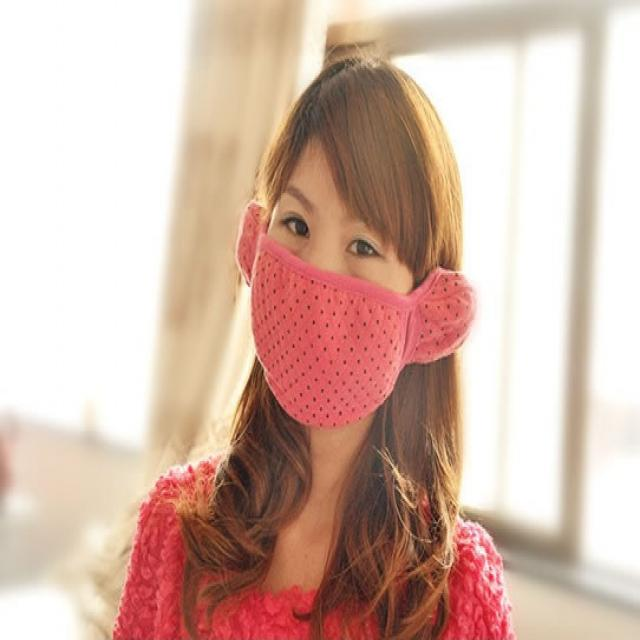mask: (250, 138, 400, 422)
